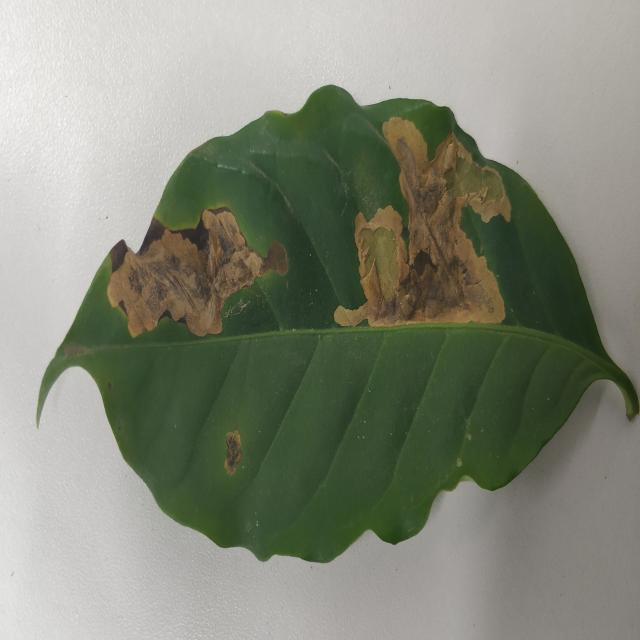Plaga-Minador: (36, 86, 640, 567)
